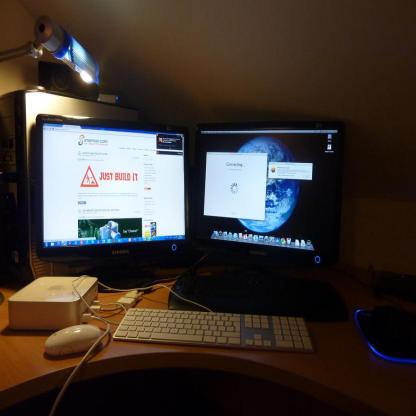board: (177, 112, 352, 292)
